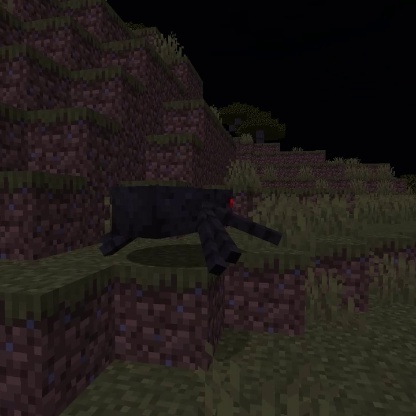spider: (94, 183, 285, 281)
